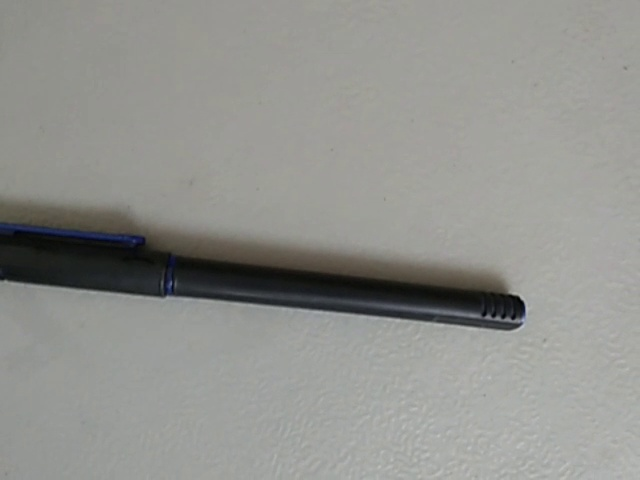Pen: (8, 198, 575, 401)
